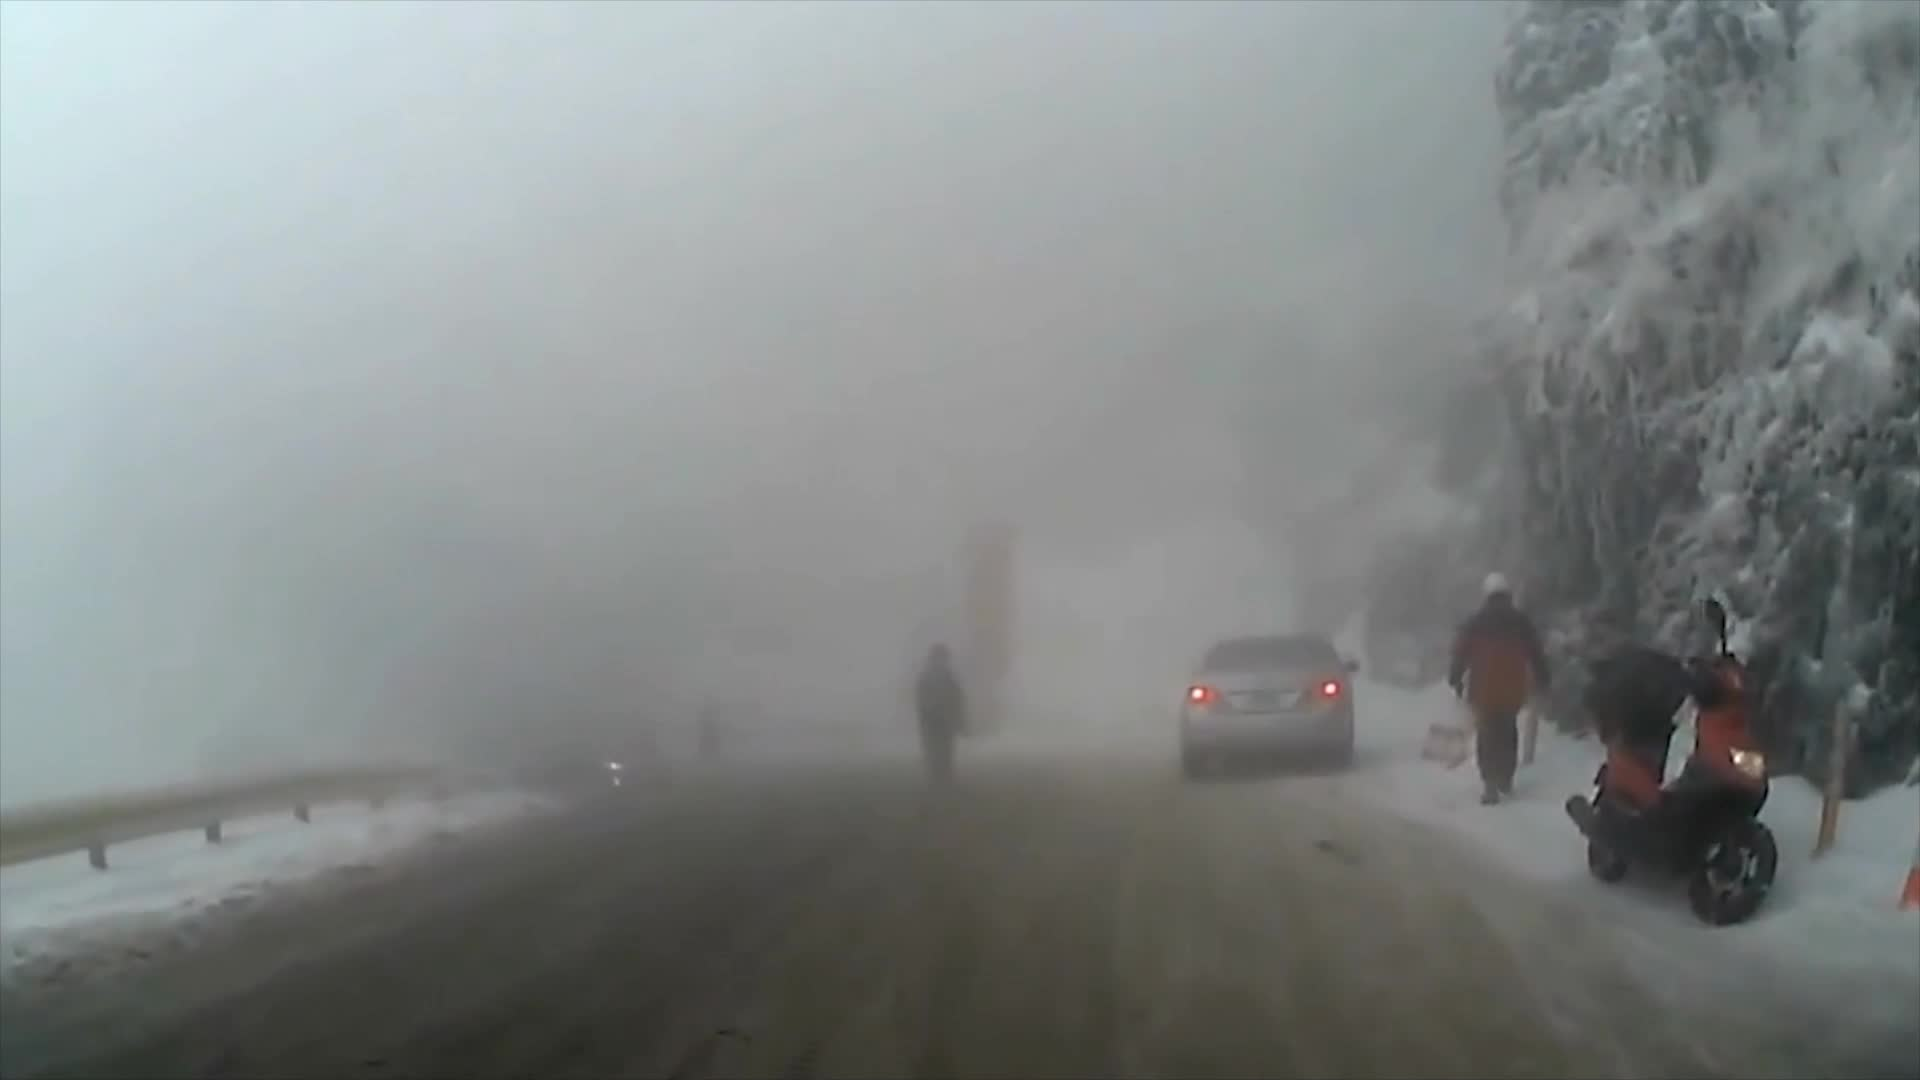pedestrian: (1443, 573, 1549, 811), (913, 642, 962, 797)
vehicle: (1178, 632, 1361, 781)
